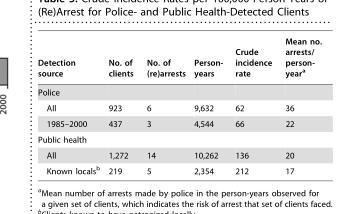table: (37, 36, 321, 175)
table column: (37, 36, 103, 175), (139, 36, 189, 175), (228, 36, 278, 175), (278, 36, 321, 175), (189, 36, 228, 175), (103, 36, 139, 175)
table column header: (37, 36, 321, 82)
table projected row header: (37, 82, 321, 100), (37, 131, 321, 147)
table row: (37, 36, 321, 82), (37, 82, 321, 100), (37, 115, 321, 131), (37, 131, 321, 147), (37, 100, 321, 115), (37, 147, 321, 162), (37, 162, 321, 175)
